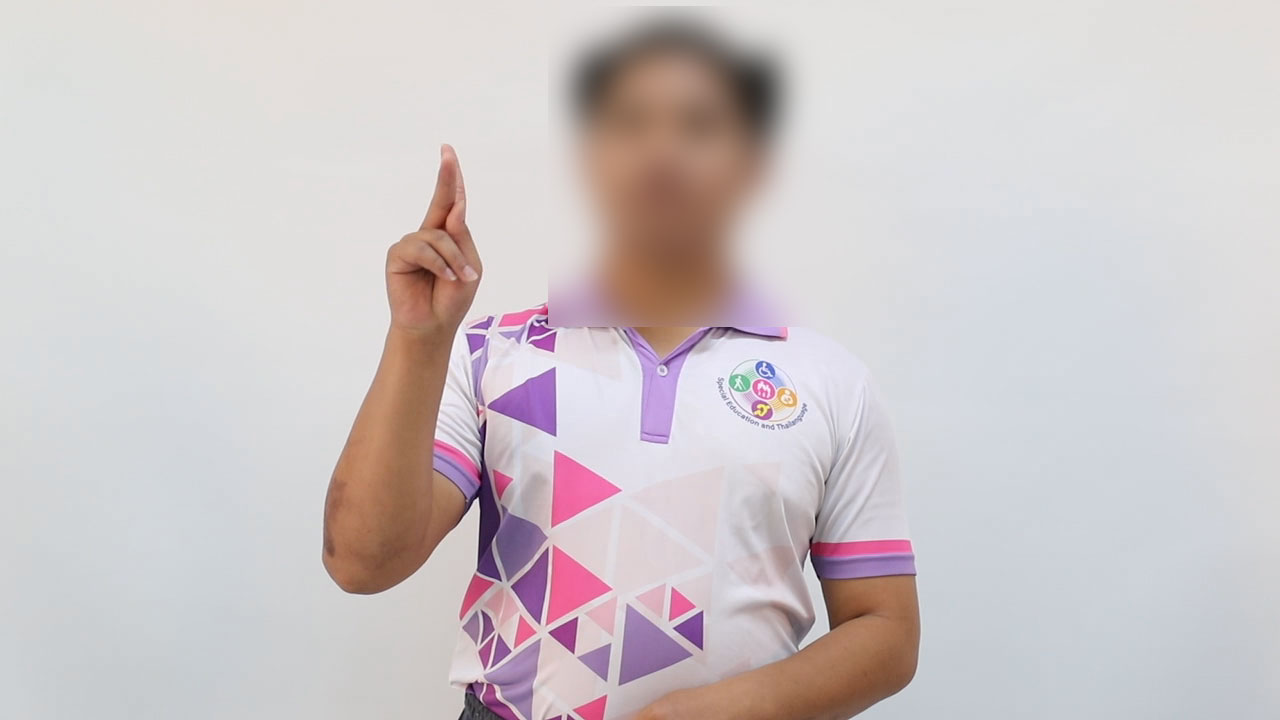ko: (347, 124, 499, 324)
